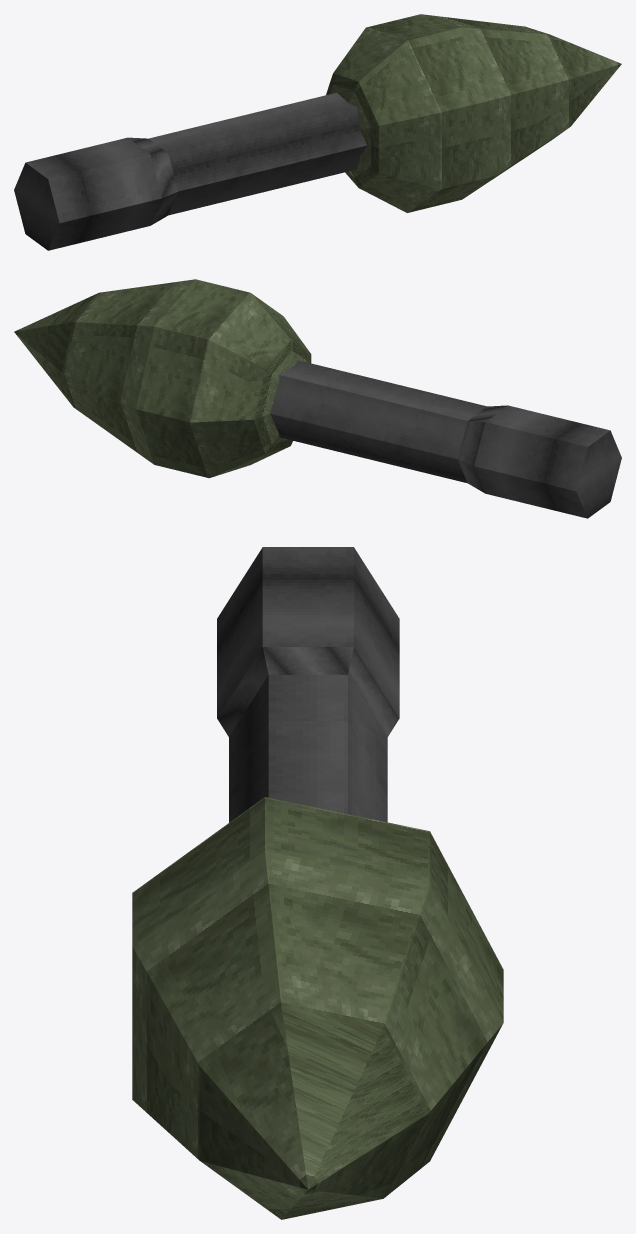
Rendered from rocket.glb.
3 views of the same model, one above another, from view 1: azimuth 30°, elevation 25°; view 2: azimuth 150°, elevation 25°; view 3: azimuth 270°, elevation 25° (orthographic). The views are drawn at different scales.
Visible parts, largest first — view 1: Sphere; view 2: Sphere; view 3: Sphere.
Boxes of the visible parts, x1,y1,x2,y2 form: Sphere: [14, 14, 621, 250]; Sphere: [14, 279, 621, 518]; Sphere: [132, 547, 503, 1219].
Size of the model in its own units: 6.58 by 1.85 by 1.81.
Materials: 2 (2 with a texture image).
